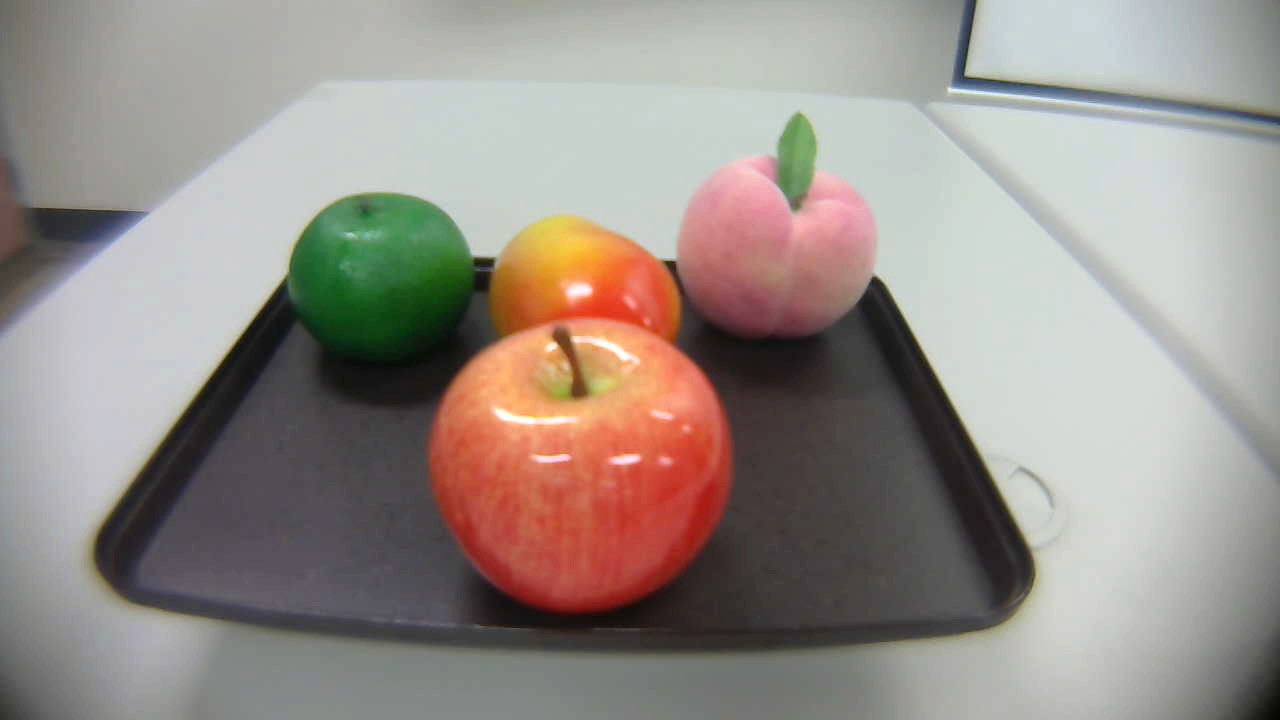green orange: (290, 184, 495, 378)
peach: (682, 109, 885, 366)
red apple: (423, 314, 743, 623)
red mango: (483, 208, 698, 376)
